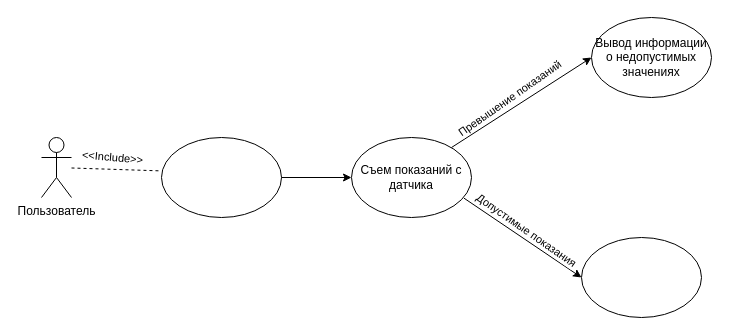
The diagram is 729 pixels wide and 335 high, and some of its shapes have lost their labels. Here are the shapes that lost their labels. From the top down, the box of each, then its label:
(160, 136, 282, 218): Датчик температуры и влажности
(580, 236, 702, 318): Вывод температуры и влажности
